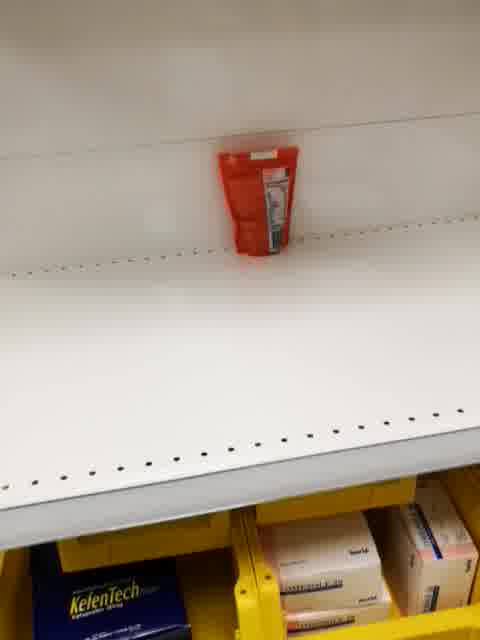whitechia: (217, 141, 299, 260)
